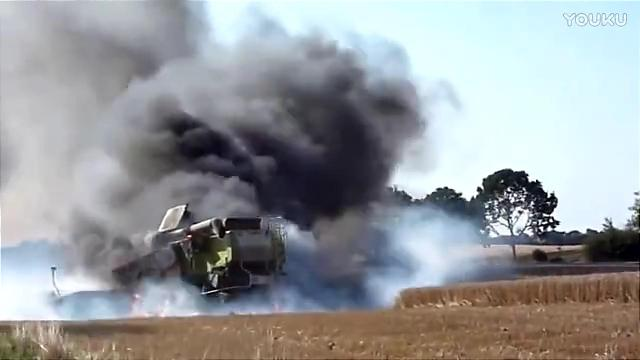smoke: (4, 64, 210, 246), (214, 64, 420, 216), (1, 1, 219, 63), (234, 12, 402, 63), (311, 218, 377, 290)
